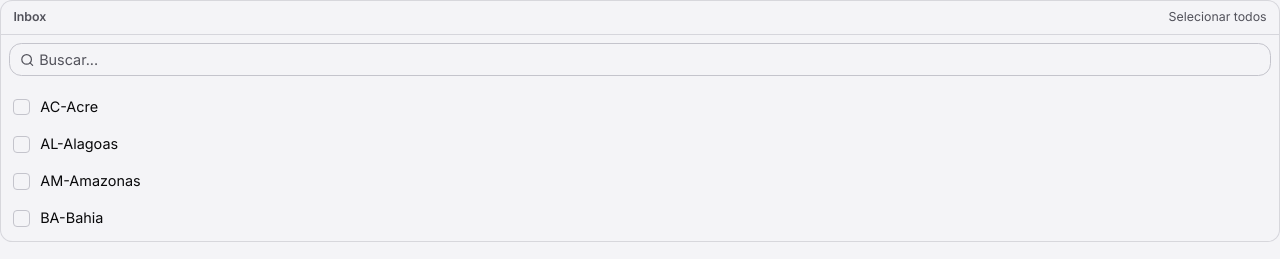
Scenario: MultiSelectCheckbox › filtra por busca
This screenshot has width=1280, height=259.
In the field with placeholder "Buscar...": (640, 60) [9, 43, 1271, 76], type "AL"
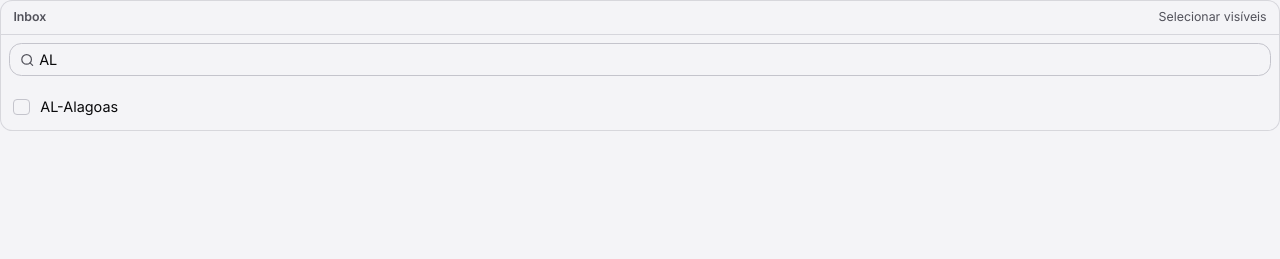
Expected: the text "AL-Alagoas" is shown, [40, 97, 118, 118]
Now the option "AC-Acre" is gone
